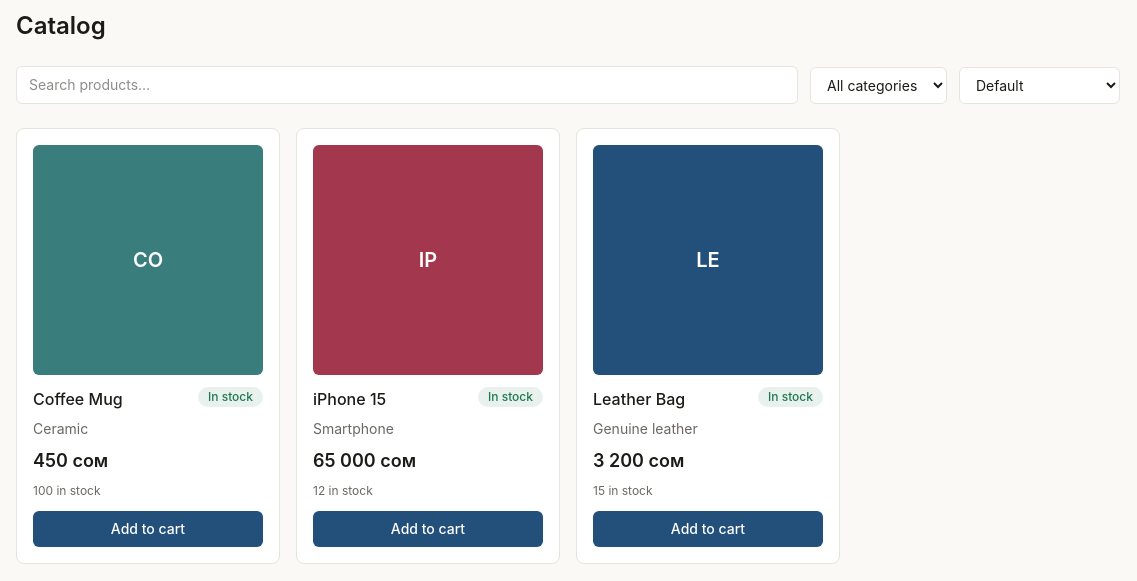
Scenario: CatalogPage: search and sort (Phase 7) › search narrows the visible product grid by name/sku/description
Check: the heading "Coffee Mug" is shown, box [33, 387, 123, 411]
Check: the heading "iPhone 15" is shown, box [313, 387, 386, 411]
Type "mug" into the search field labelled "Search products" at (407, 85), box [16, 66, 798, 104]
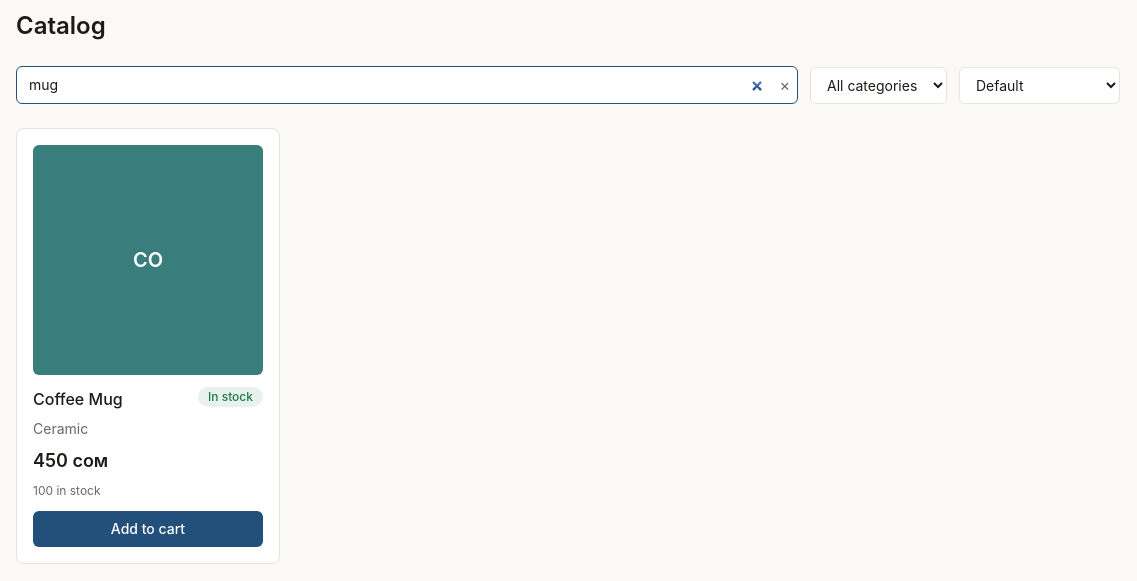
Check: the heading "Coffee Mug" is shown, box [33, 387, 123, 411]
Check: the link "iPhone 15" is gone
Check: the link "Leather Bag" is gone
